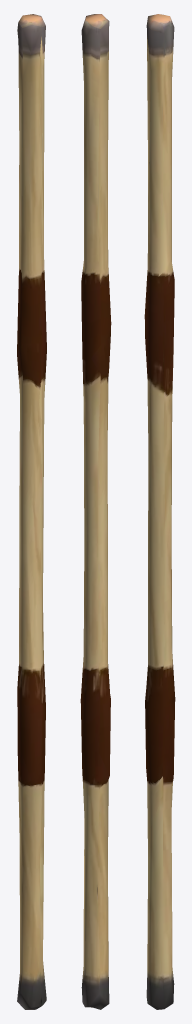
The model's file is ow-quarterstaff.glb.
3 renders of one model, left to right at view 1: azimuth 90°, elevation 25°; view 2: azimuth 150°, elevation 25°; view 3: azimuth 330°, elevation 25°, orthographic.
Visible parts, largest first — view 1: ow-quarterstaff; view 2: ow-quarterstaff; view 3: ow-quarterstaff.
Part boxes in pixels (x1,y1,x2,y2): ow-quarterstaff: (17, 14, 46, 1009); ow-quarterstaff: (80, 14, 111, 1009); ow-quarterstaff: (144, 14, 175, 1009).
Size of the model in its own units: 0.0552 by 1.8 by 0.0496.
Materials: 1 (1 with a texture image).
